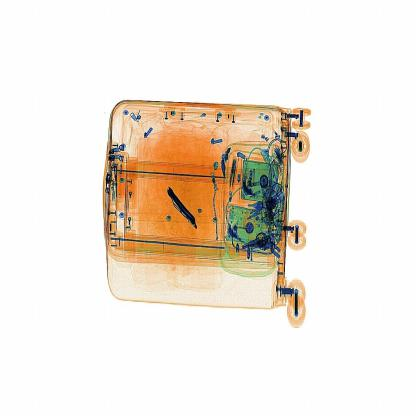knife: (164, 187, 200, 231)
